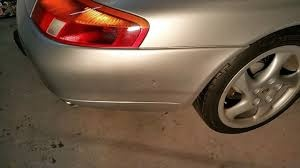Broken-glass: (67, 5, 107, 19)
